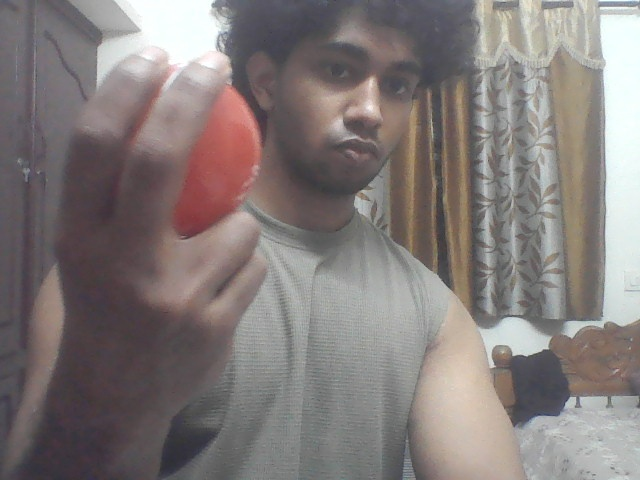cricket_ball: (120, 60, 260, 227)
